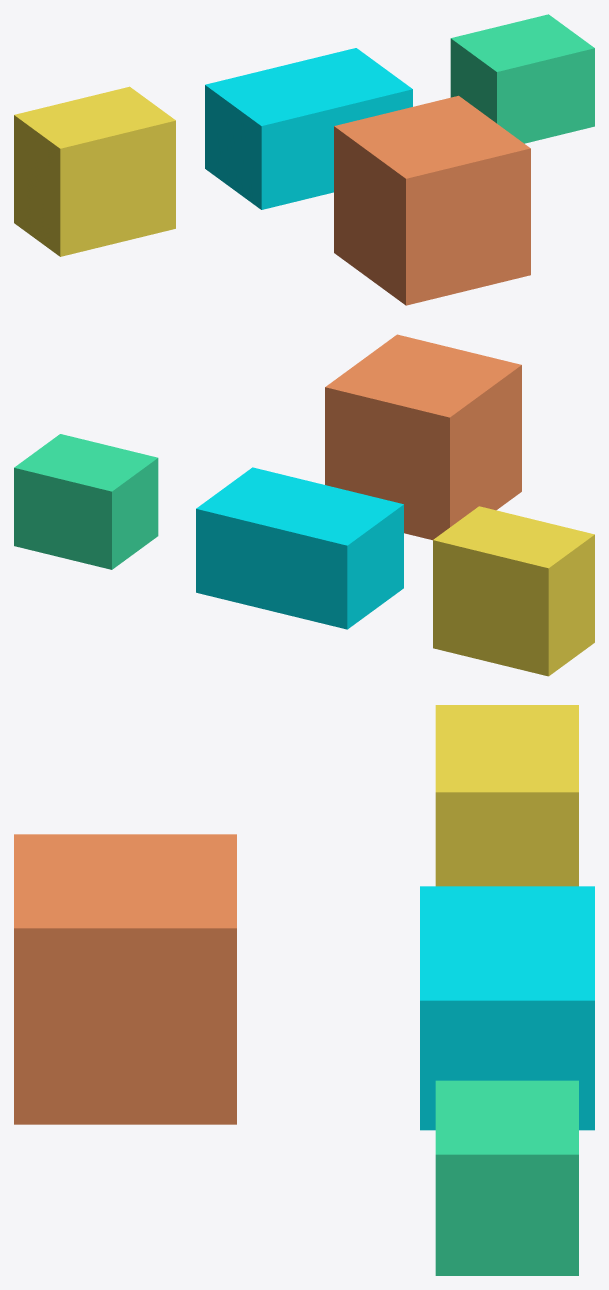
The model's file is sm_loot_crates.glb.
The picture shows the model from 3 angles, top to bottom: view 1: azimuth 30°, elevation 25°; view 2: azimuth 150°, elevation 25°; view 3: azimuth 270°, elevation 25°; orthographic projection. The views are drawn at different scales.
Visible parts, largest first — view 1: death_drop_box, armor_crate, weapon_crate, medkit_box; view 2: death_drop_box, weapon_crate, armor_crate, medkit_box; view 3: death_drop_box, weapon_crate, medkit_box, armor_crate.
Boxes of the visible parts, x1,y1,x2,y2 form: death_drop_box: (334, 95, 530, 305); armor_crate: (14, 86, 175, 256); weapon_crate: (205, 48, 412, 209); medkit_box: (450, 14, 594, 143); death_drop_box: (325, 334, 521, 540); weapon_crate: (196, 467, 403, 629); armor_crate: (433, 506, 594, 676); medkit_box: (14, 434, 158, 569); death_drop_box: (14, 834, 236, 1124); weapon_crate: (420, 886, 594, 1130); medkit_box: (435, 1080, 578, 1275); armor_crate: (435, 705, 578, 886).
Bounding box in the file's own units: 3 × 0.68 × 1.82.
